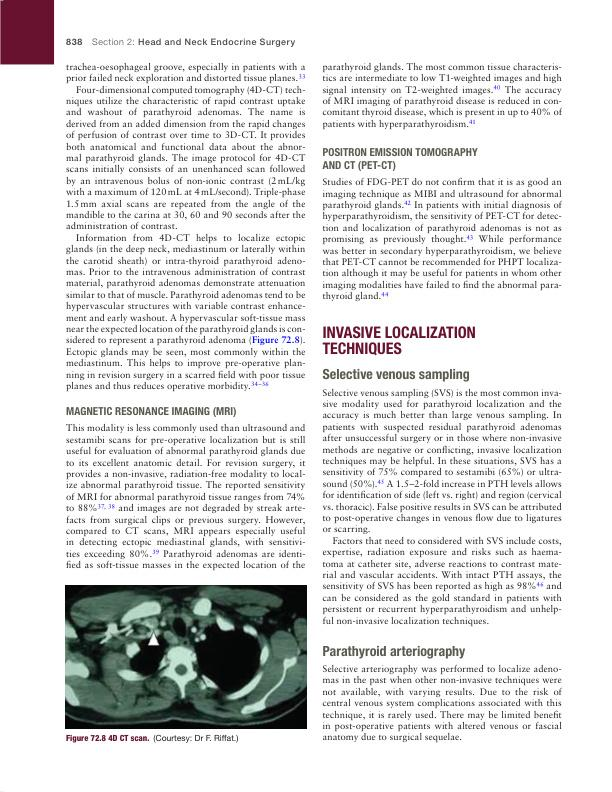caption: (65, 734, 239, 743)
header: (91, 37, 296, 48)
image: (64, 584, 307, 730)
section-heading: (322, 324, 476, 357)
sub-section-heading: (321, 146, 479, 172), (322, 367, 470, 383), (322, 645, 466, 660), (65, 406, 237, 417)
text: (65, 61, 307, 393), (322, 388, 562, 628), (65, 423, 306, 572), (322, 177, 563, 303), (321, 663, 563, 744), (322, 61, 563, 131)
